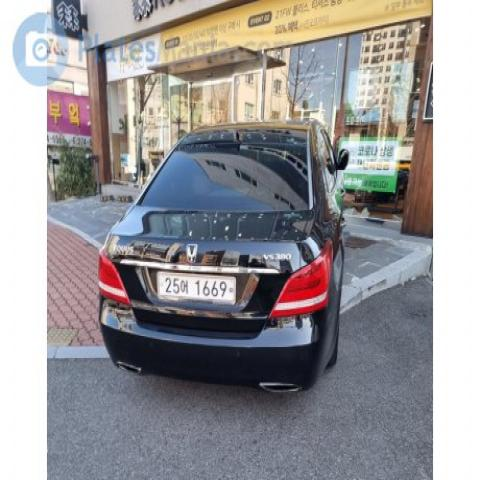LP: (152, 262, 243, 311)
